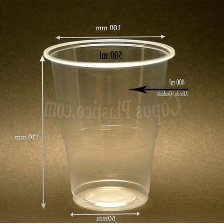glass: (38, 35, 178, 214)
